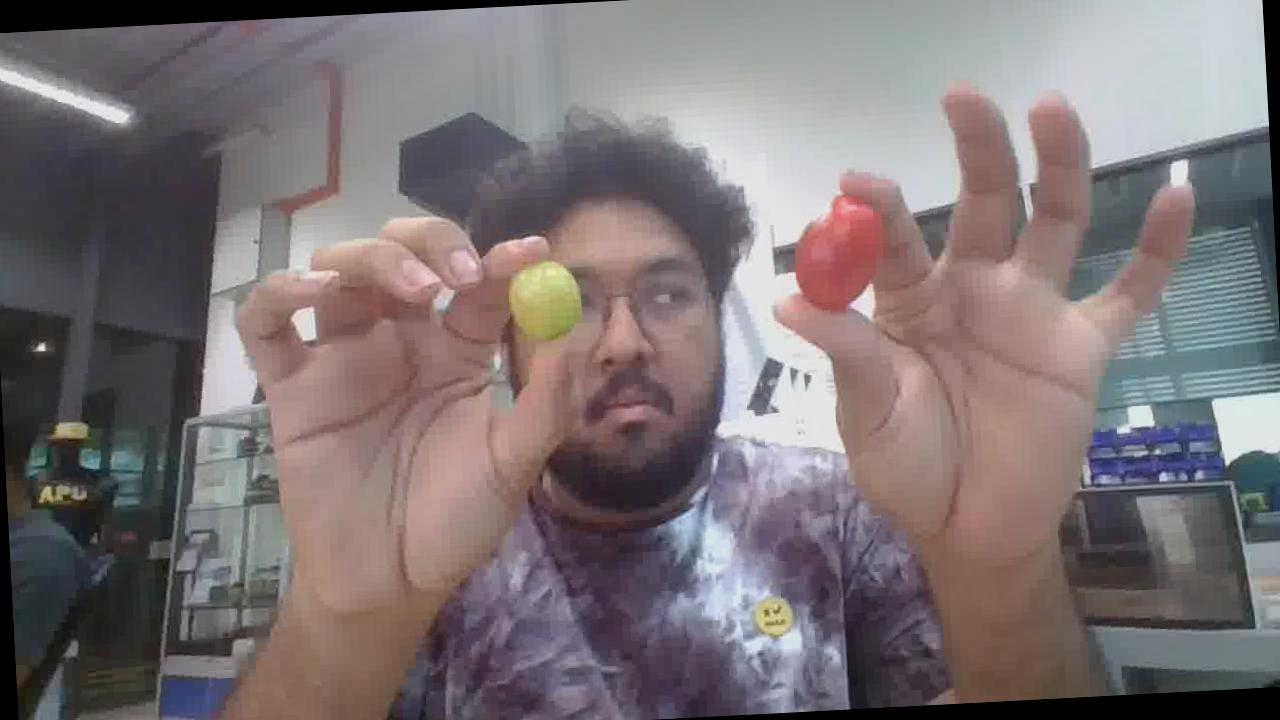green_cherry_tomato: (508, 261, 581, 341)
red_cherry_tomato: (794, 195, 882, 312)
